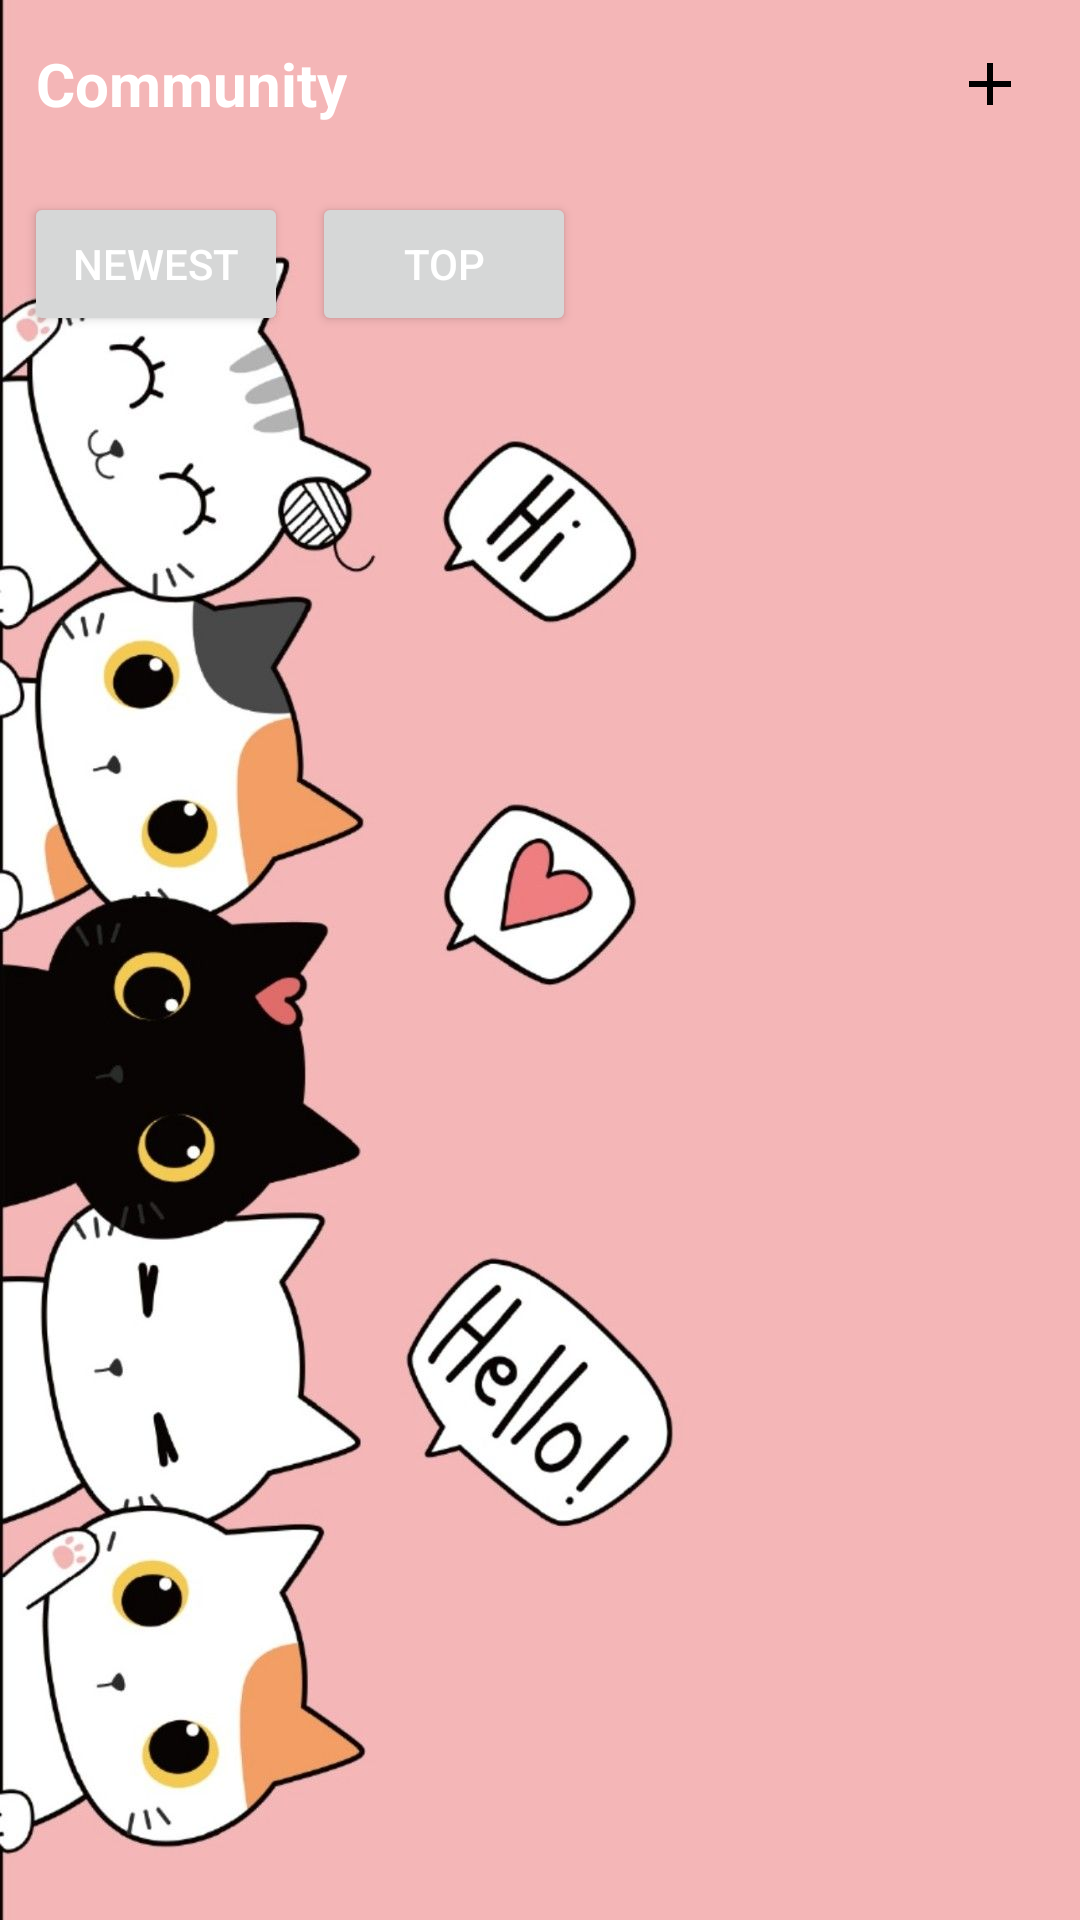

Icons on this 1080w x 1920h Android screen, each with its box as (x1, y1, x2, y2):
New Post: (969, 63, 1011, 105)
